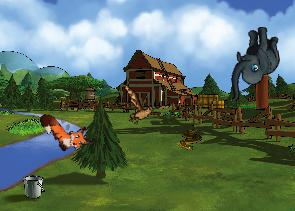eagle: (110, 81, 167, 132)
elephant: (220, 24, 286, 101)
fox: (36, 99, 95, 161)
